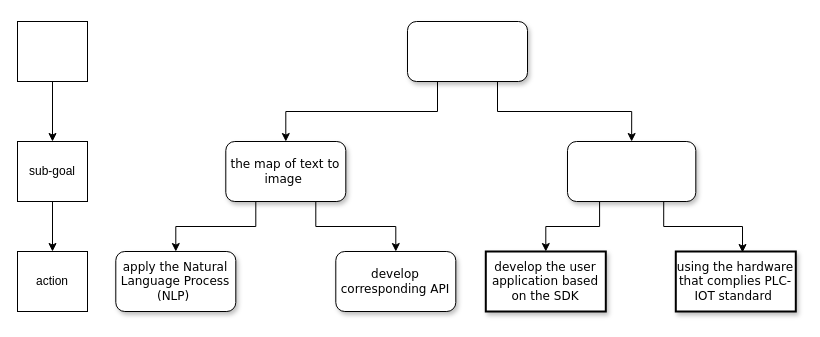
Image size: 820x337. Some labels were removed from this diagram. Here are the shapes that lost their labels. From the top down, the centre of each, then its label:
At point (52, 51): "goal".
At point (468, 52): "develop a smart home interactive AI camera".
At point (632, 172): "a smart home system based on PLC-IOT architecture".
